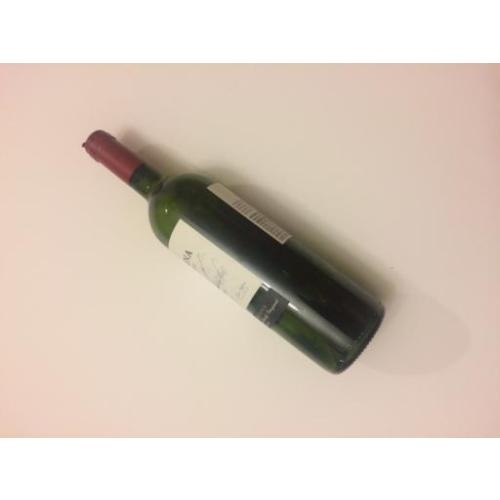glass: (86, 129, 386, 374)
